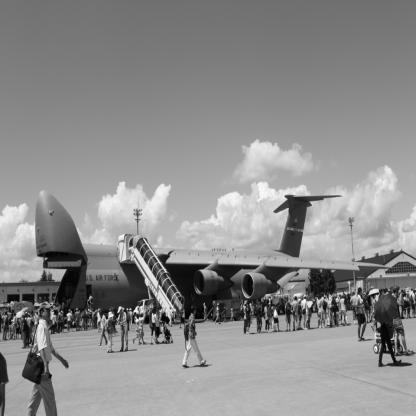C5: (36, 190, 393, 331)
